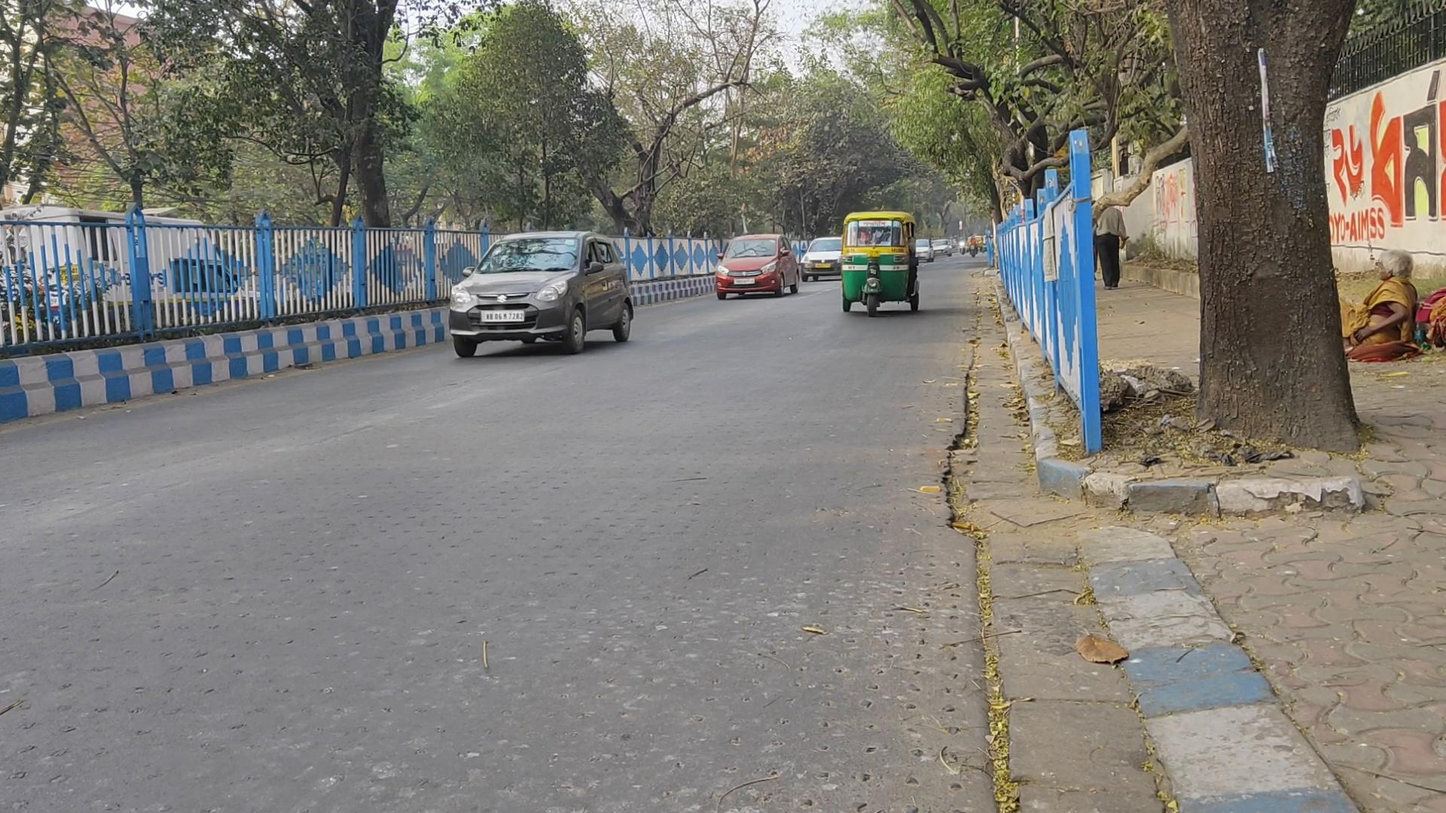Auto: (839, 210, 920, 318)
car: (448, 229, 634, 358), (715, 233, 801, 300), (797, 235, 839, 285), (801, 235, 842, 283)
